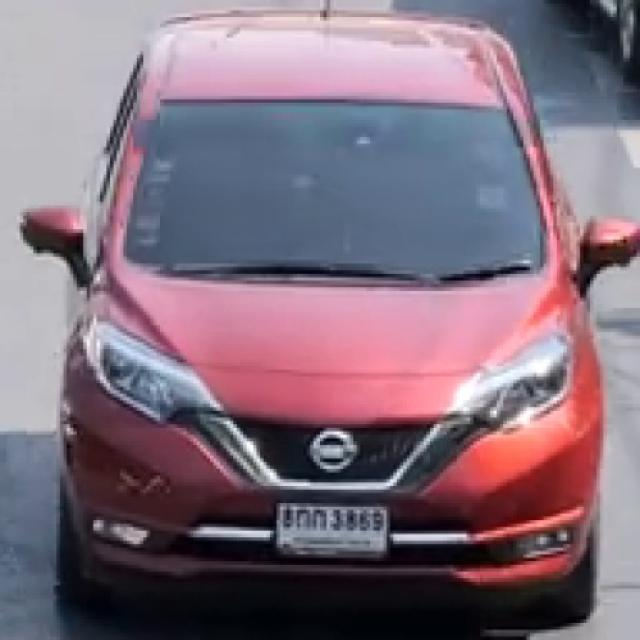plate: (277, 501, 390, 554)
